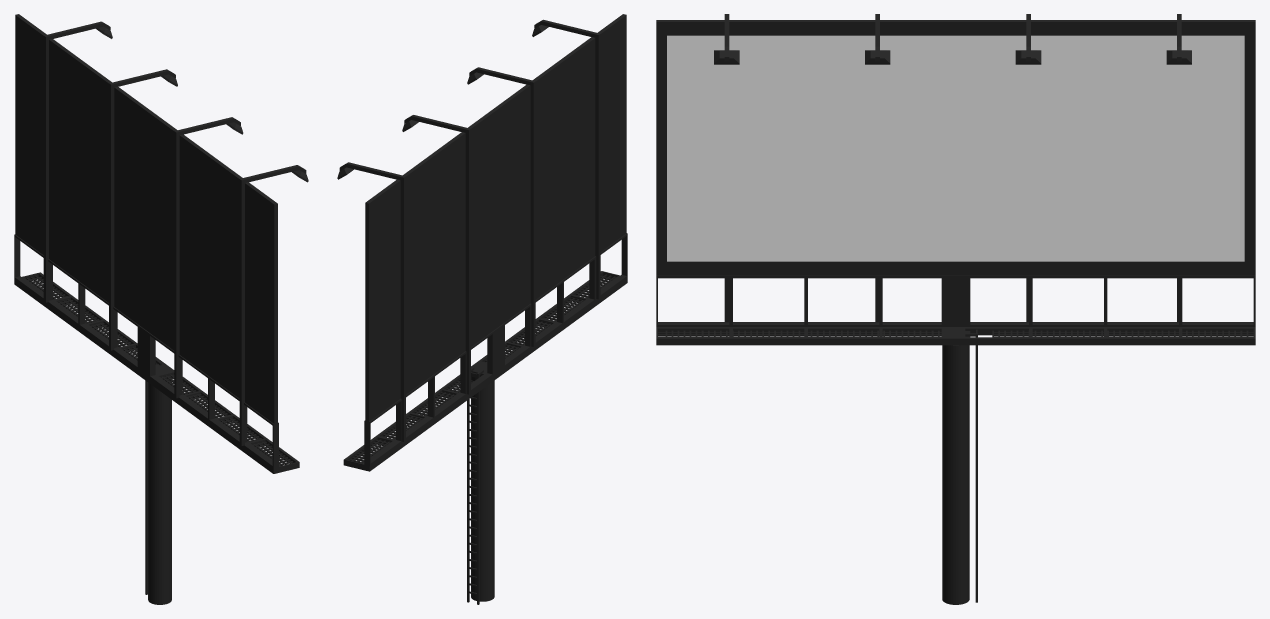
File: Billboard.glb
3 renders of one model, left to right at view 1: azimuth 30°, elevation 25°; view 2: azimuth 150°, elevation 25°; view 3: azimuth 270°, elevation 25°, orthographic. The views are drawn at different scales.
Parts seen in each view (by area): view 1: Cube.001_1, Cube.013_3; view 2: Cube.001_1, Cube.013_3; view 3: Plane_2, Cube.001_1, Cube.013_3.
Boxes of the visible parts, x1,y1,x2,y2 form: Cube.001_1: (14, 14, 299, 604); Cube.013_3: (43, 21, 308, 445); Cube.001_1: (343, 14, 627, 604); Cube.013_3: (337, 19, 600, 441); Plane_2: (667, 35, 1244, 261); Cube.001_1: (656, 20, 1255, 604); Cube.013_3: (714, 14, 1191, 322).
Size of what is drawn, in the model's own units: 2.67 by 19.59 by 18.51.
3 materials, 1 textured.
